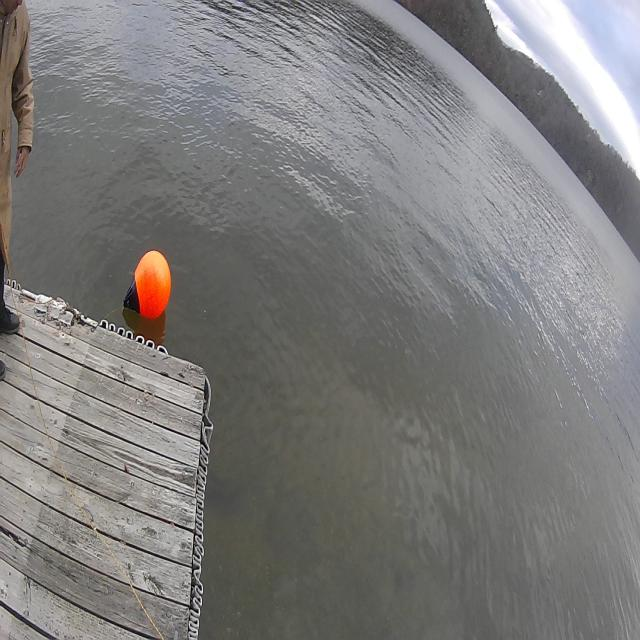Buoy: (120, 245, 182, 335)
